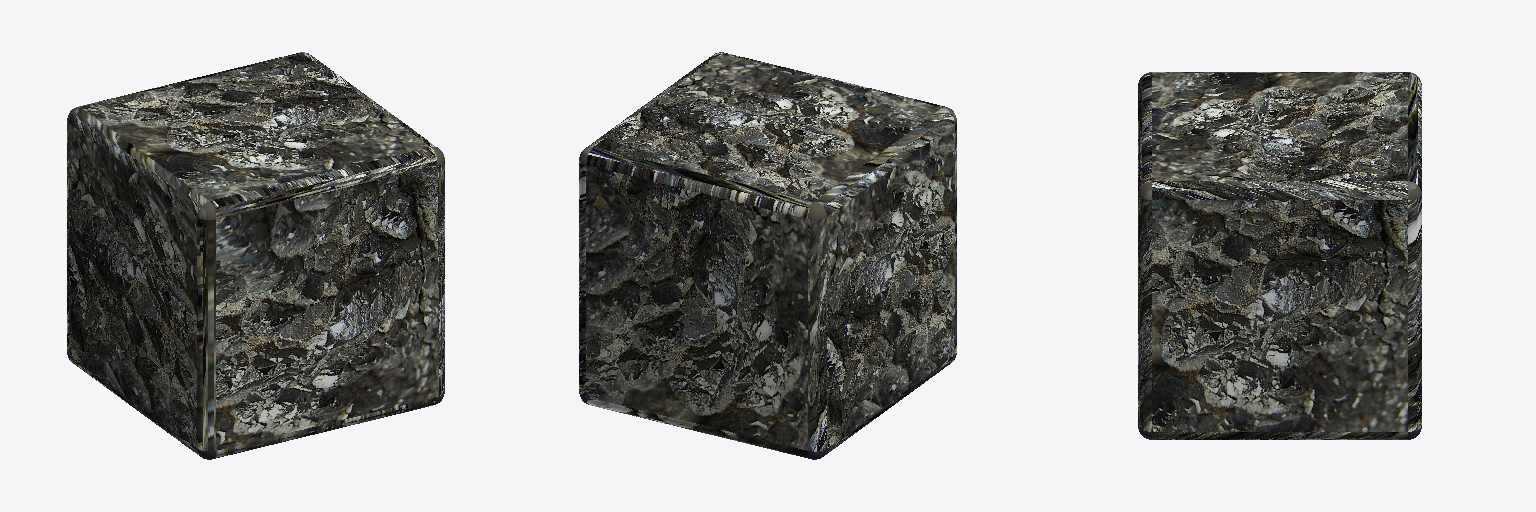
3 views of the same model, side by side, from view 1: azimuth 30°, elevation 25°; view 2: azimuth 150°, elevation 25°; view 3: azimuth 270°, elevation 25° (orthographic).
Parts seen in each view (by area): view 1: Cube; view 2: Cube; view 3: Cube.
Part boxes in pixels (left/top/right/bottom): Cube: left=67, top=52, right=444, bottom=459; Cube: left=579, top=52, right=956, bottom=459; Cube: left=1138, top=72, right=1421, bottom=439.
Bounding box in the file's own units: 2 × 2 × 2.
1 materials, 1 textured.